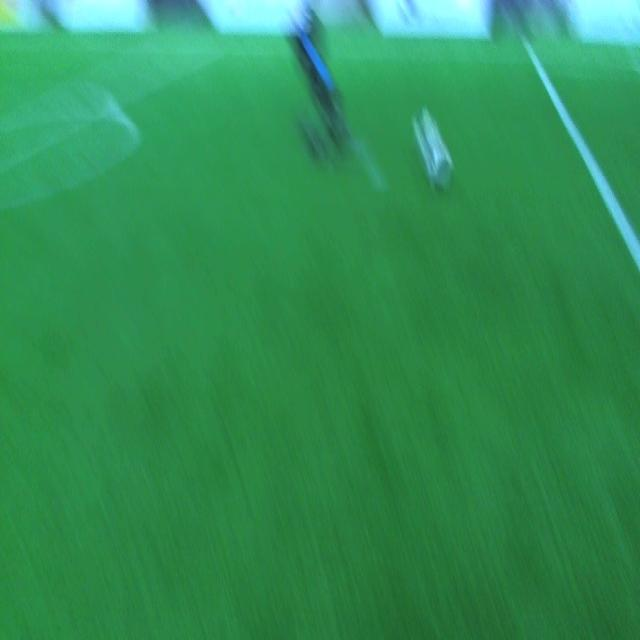ball: (409, 112, 456, 196)
